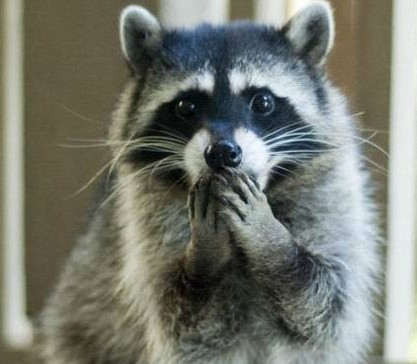raccoon: (43, 2, 386, 358)
